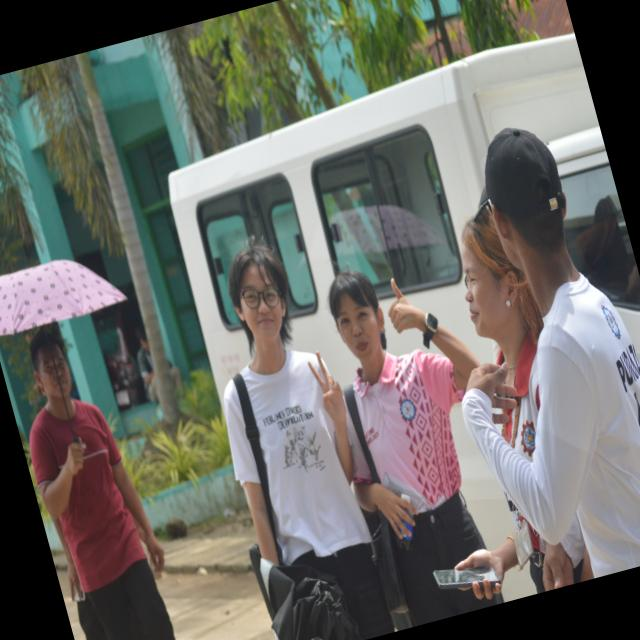person: (463, 129, 639, 576), (224, 242, 394, 639), (328, 271, 484, 625), (30, 332, 175, 639), (462, 193, 543, 461), (135, 327, 159, 402)
